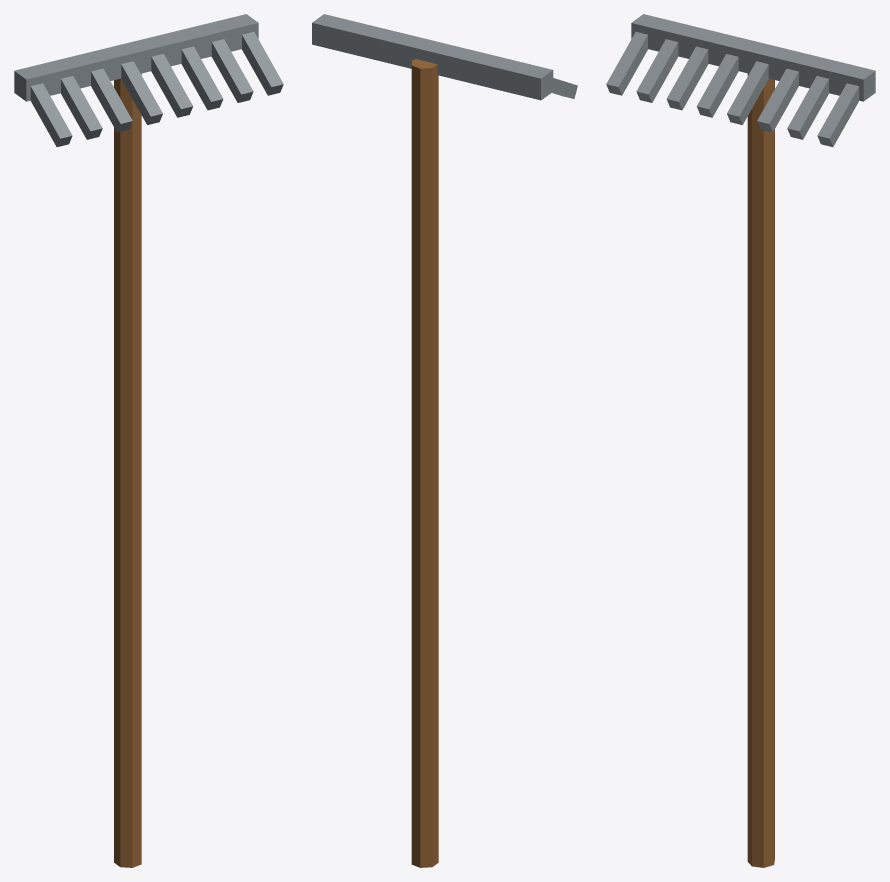
Rendered from uprawa-grabie.glb.
3 views of the same model, side by side, from view 1: azimuth 30°, elevation 25°; view 2: azimuth 150°, elevation 25°; view 3: azimuth 330°, elevation 25° (orthographic).
Parts seen in each view (by area): view 1: uprawa-grabie-0, uprawa-grabie-1, uprawa-grabie-2, uprawa-grabie-8, uprawa-grabie-7, uprawa-grabie-6, uprawa-grabie-5, uprawa-grabie-4, uprawa-grabie-3, uprawa-grabie-9; view 2: uprawa-grabie-0, uprawa-grabie-1; view 3: uprawa-grabie-0, uprawa-grabie-1, uprawa-grabie-3, uprawa-grabie-9, uprawa-grabie-4, uprawa-grabie-5, uprawa-grabie-6, uprawa-grabie-7, uprawa-grabie-2, uprawa-grabie-8.
Part boxes in pixels (x1=…): uprawa-grabie-0: x1=114, y1=73, x2=141, y2=867; uprawa-grabie-1: x1=14, y1=14, x2=258, y2=101; uprawa-grabie-2: x1=30, y1=83, x2=72, y2=146; uprawa-grabie-8: x1=211, y1=39, x2=253, y2=102; uprawa-grabie-7: x1=181, y1=46, x2=223, y2=110; uprawa-grabie-6: x1=151, y1=54, x2=193, y2=117; uprawa-grabie-5: x1=121, y1=61, x2=162, y2=124; uprawa-grabie-4: x1=91, y1=68, x2=132, y2=132; uprawa-grabie-3: x1=61, y1=76, x2=102, y2=139; uprawa-grabie-9: x1=242, y1=32, x2=283, y2=95; uprawa-grabie-0: x1=411, y1=59, x2=438, y2=867; uprawa-grabie-1: x1=312, y1=14, x2=553, y2=100; uprawa-grabie-0: x1=747, y1=73, x2=774, y2=867; uprawa-grabie-1: x1=631, y1=14, x2=875, y2=101; uprawa-grabie-3: x1=636, y1=39, x2=678, y2=102; uprawa-grabie-9: x1=817, y1=83, x2=859, y2=146; uprawa-grabie-4: x1=666, y1=46, x2=708, y2=110; uprawa-grabie-5: x1=696, y1=54, x2=738, y2=117; uprawa-grabie-6: x1=727, y1=61, x2=768, y2=124; uprawa-grabie-7: x1=757, y1=68, x2=798, y2=132; uprawa-grabie-2: x1=606, y1=32, x2=647, y2=95; uprawa-grabie-8: x1=787, y1=76, x2=828, y2=139.
Bounding box in the file's own units: 0.66 × 2.23 × 0.2495.
